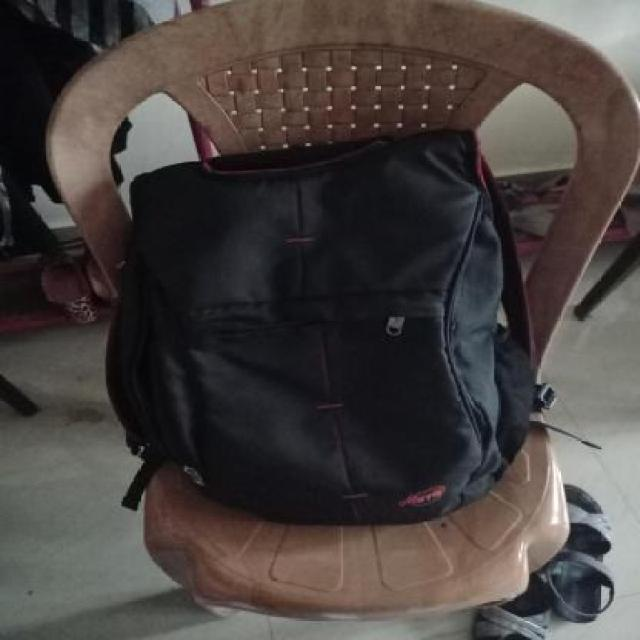backpack: (100, 122, 558, 532)
